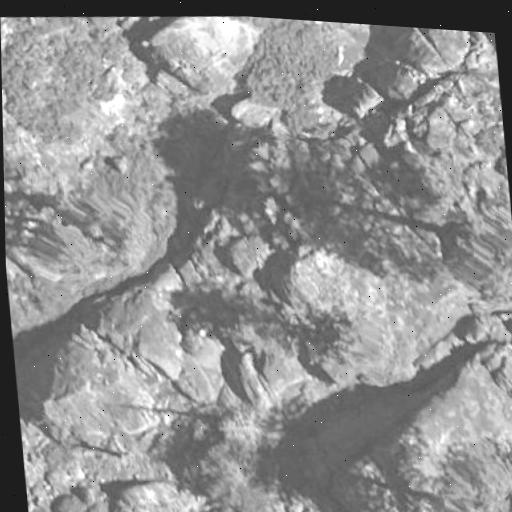tree-top: (27, 173, 165, 285), (231, 15, 343, 128), (182, 424, 286, 512), (417, 420, 512, 512), (333, 317, 417, 398), (402, 149, 459, 216)
